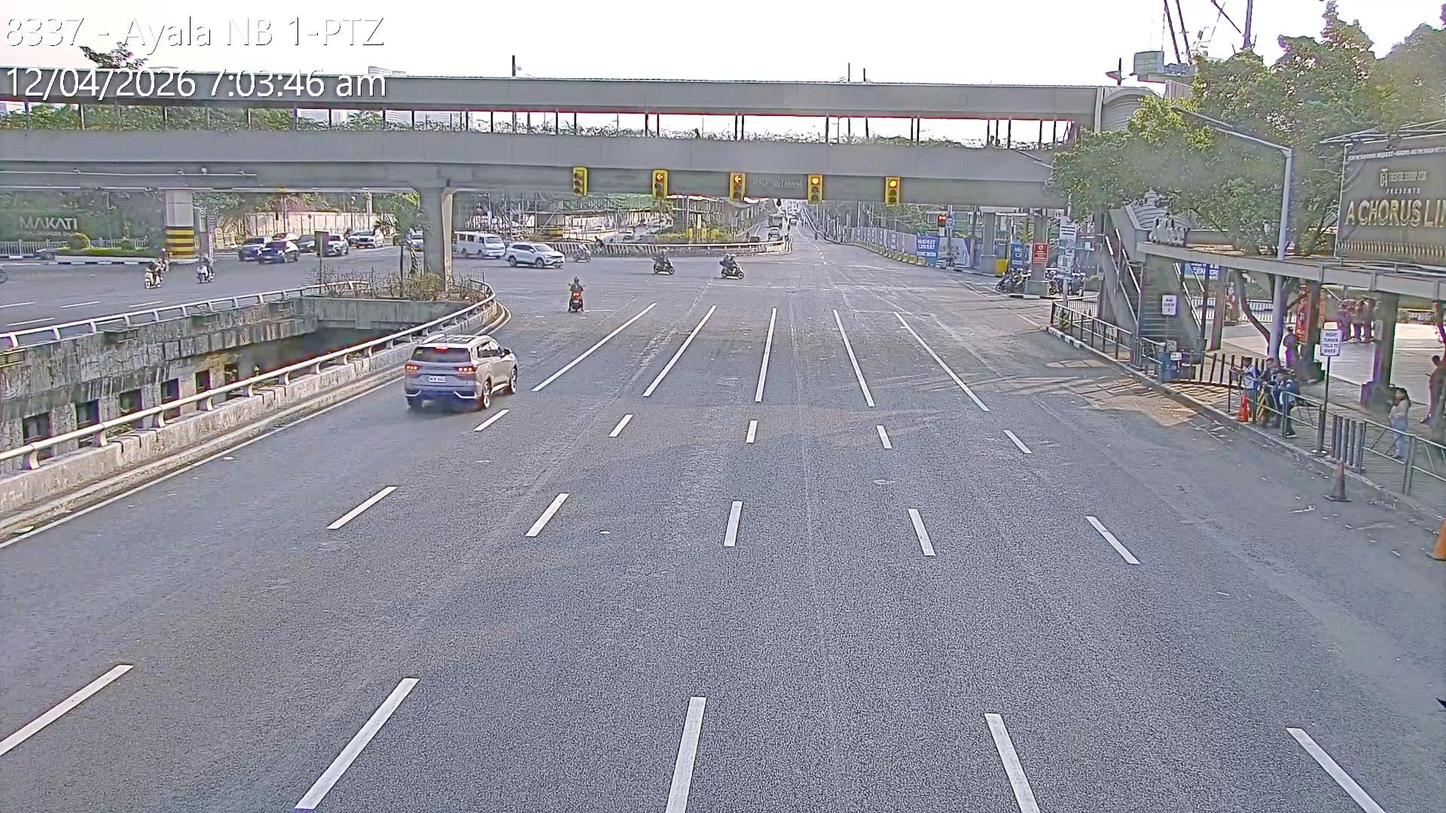Car: (403, 333, 520, 413), (505, 241, 566, 268), (453, 231, 508, 259), (236, 236, 276, 262), (259, 239, 302, 263), (311, 231, 348, 257), (344, 227, 380, 248), (292, 231, 317, 254)
Motor: (1002, 265, 1023, 294), (566, 281, 584, 312), (570, 241, 593, 265), (994, 267, 1015, 293), (143, 263, 162, 288), (654, 255, 676, 276), (721, 258, 744, 278), (195, 257, 213, 282)
Not Accident: (452, 224, 567, 273)
